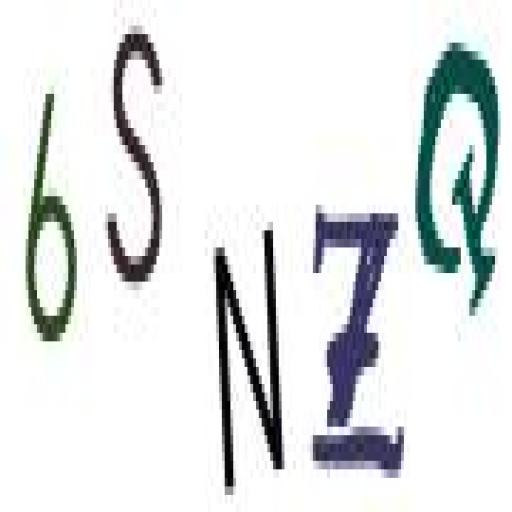6: (20, 67, 82, 363)
N: (206, 211, 288, 509)
Q: (416, 22, 510, 328)
S: (100, 9, 170, 303)
Z: (311, 180, 418, 500)
